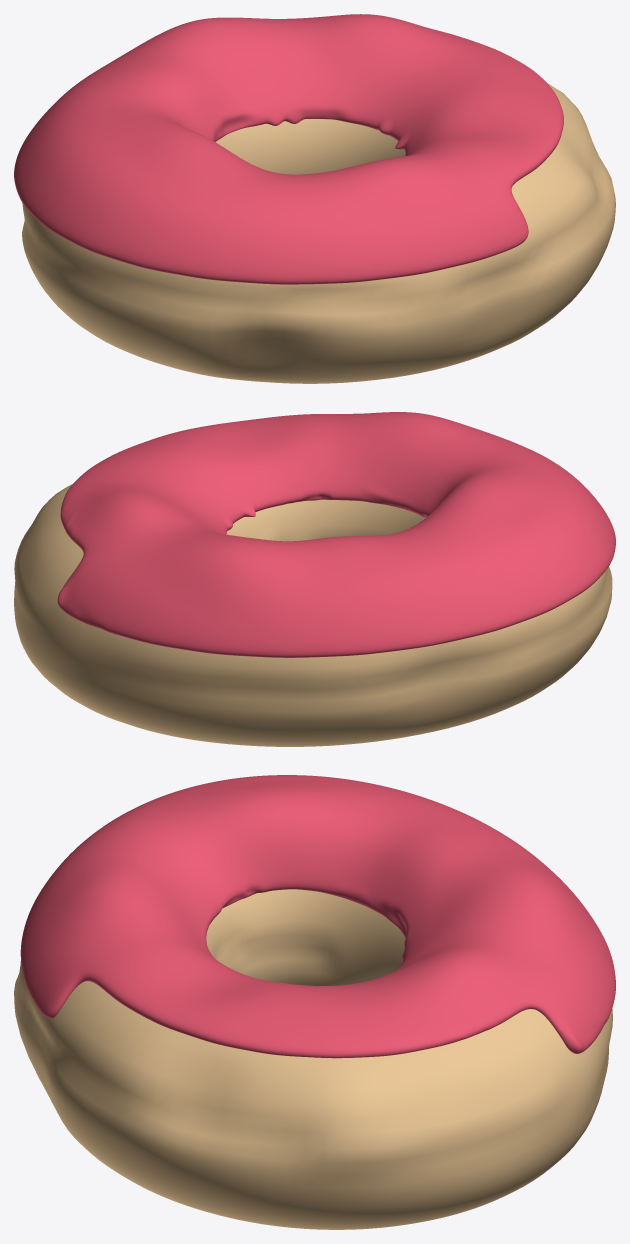
The model's file is donut.glb.
3 renders of one model, top to bottom at view 1: azimuth 30°, elevation 25°; view 2: azimuth 150°, elevation 25°; view 3: azimuth 270°, elevation 25°, orthographic. The views are drawn at different scales.
Visible parts, largest first — view 1: icing, doughnut; view 2: icing, doughnut; view 3: icing, doughnut.
Part boxes in pixels (x1,y1,x2,y2): icing: [14, 14, 563, 284]; doughnut: [22, 83, 615, 383]; icing: [57, 412, 615, 657]; doughnut: [14, 484, 612, 746]; icing: [20, 775, 615, 1058]; doughnut: [14, 889, 612, 1229].
Size of what is drawn, in the model's own units: 0.1746 by 0.0677 by 0.1522.
